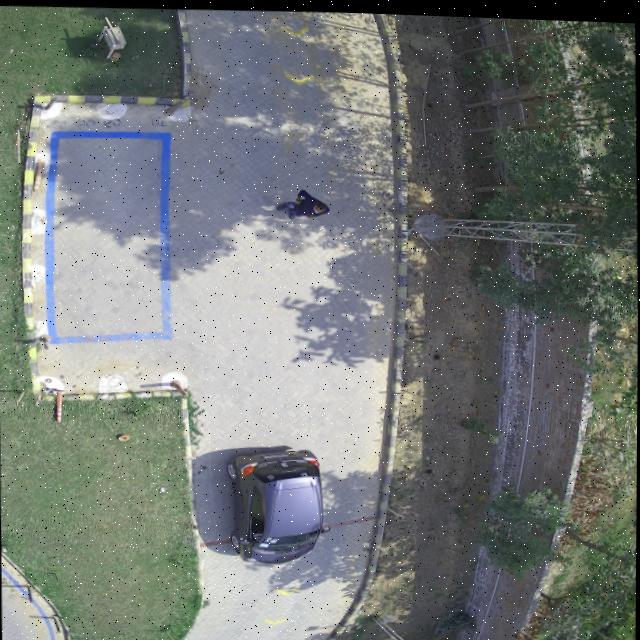car: (230, 446, 324, 561)
